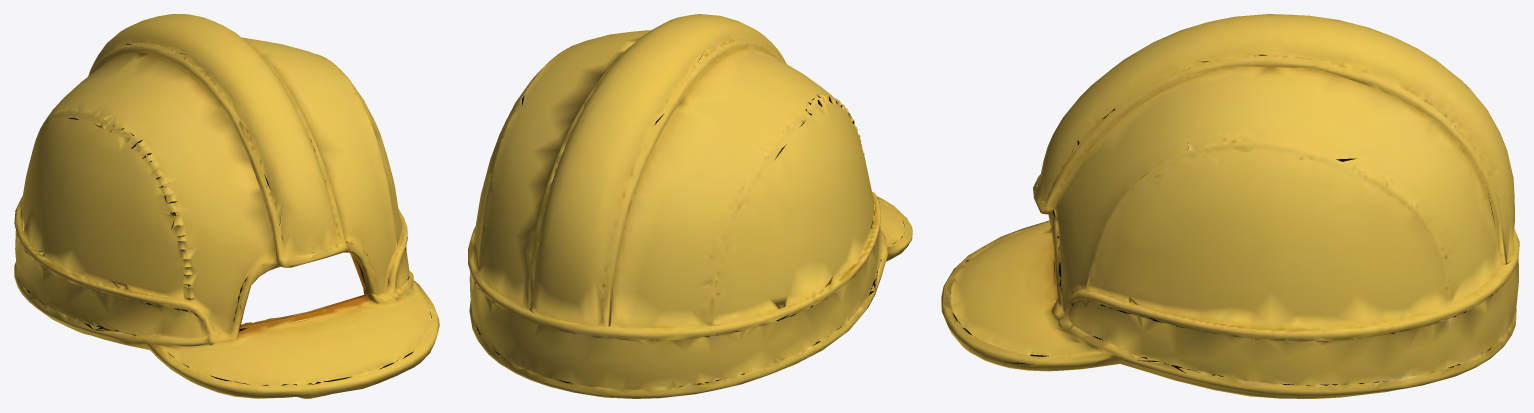
Rendered from hardhat.glb.
3 renders of one model, left to right at view 1: azimuth 30°, elevation 25°; view 2: azimuth 150°, elevation 25°; view 3: azimuth 270°, elevation 25°, orthographic. The views are drawn at different scales.
Visible parts, largest first — view 1: node_0; view 2: node_0; view 3: node_0.
Boxes of the visible parts, box(x1,y1,x2,y2) form: node_0: box(14, 14, 439, 398); node_0: box(468, 14, 912, 398); node_0: box(941, 14, 1519, 398).
Size of the model in its own units: 0.46 by 0.35 by 0.6075.
Materials: 1 (1 with a texture image).
